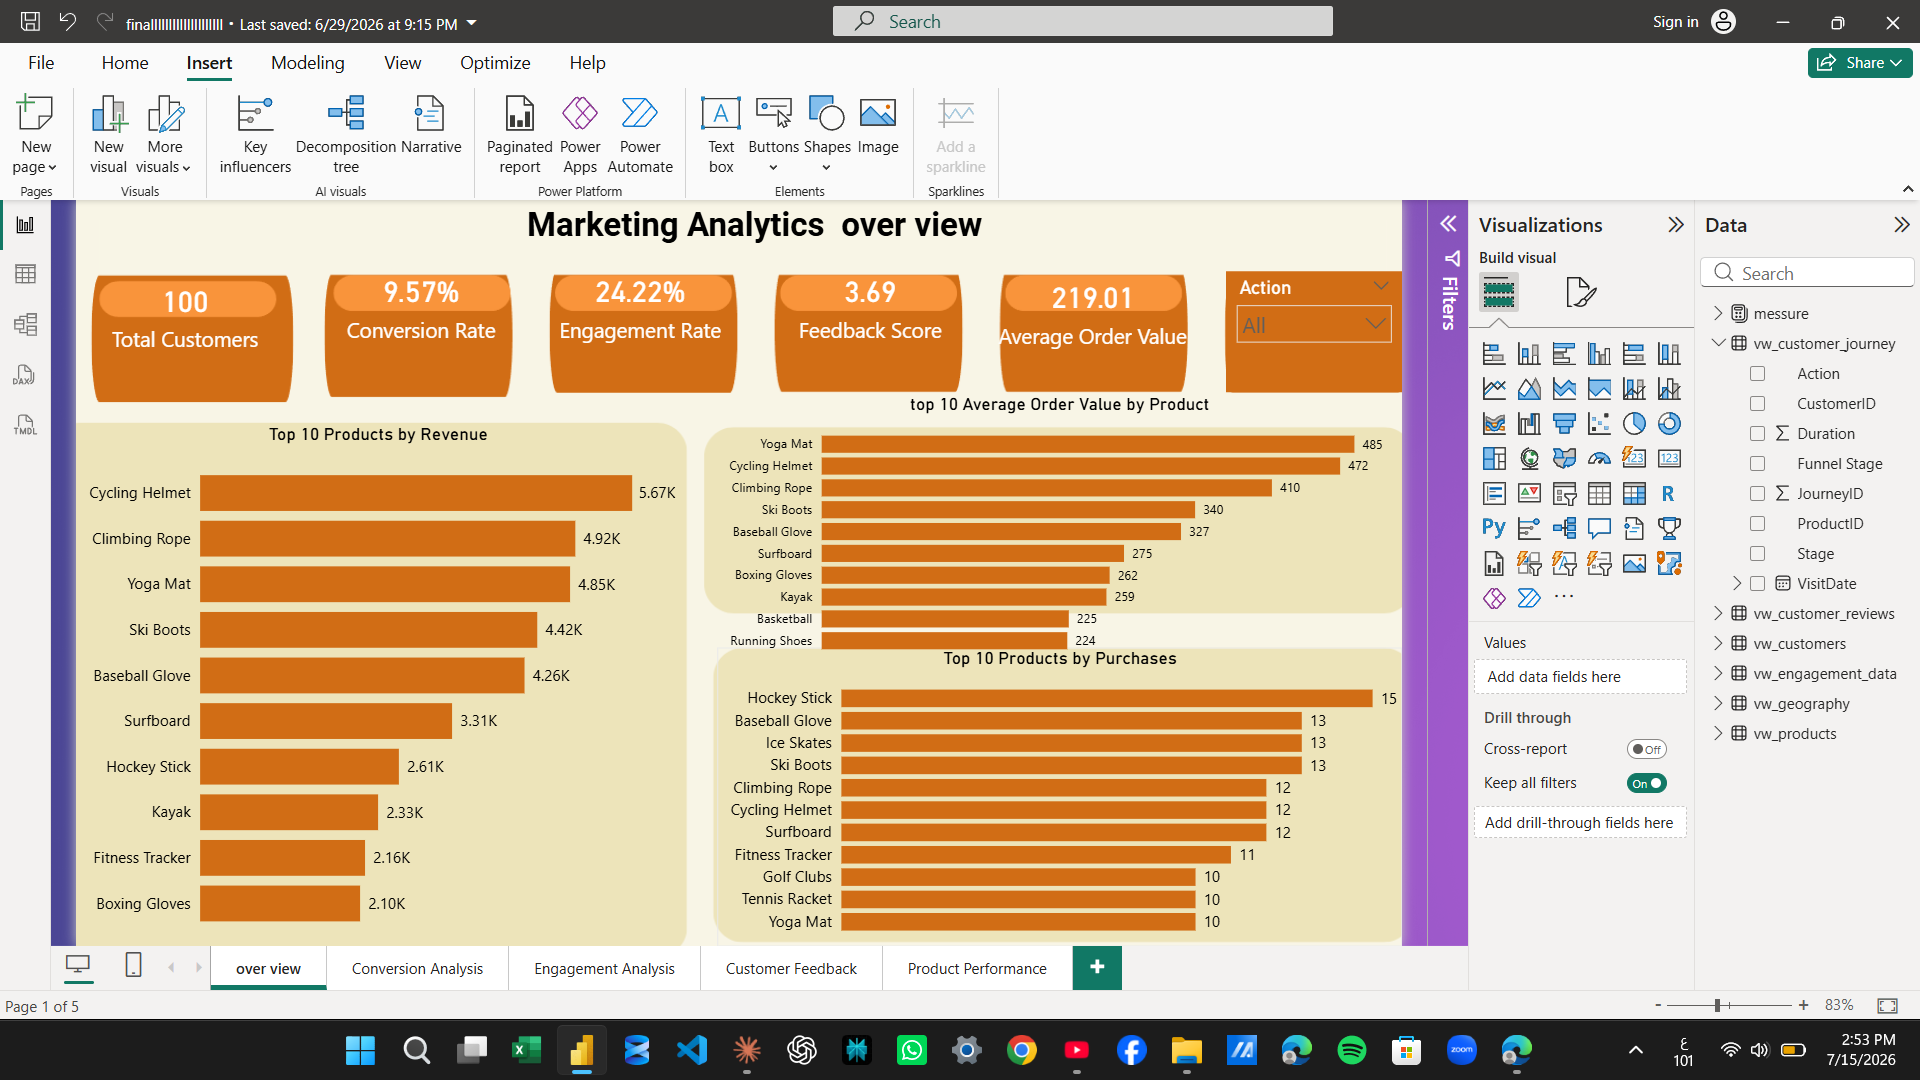

What the dashboard file says about the page in this screenshot:
{"tool":"powerbi","page":{"name":"over view","canvas":[1280,720],"ordinal":0},"visuals":[{"type":"card","fields":{"Values":["messure.Averge order Value"]},"box":[875.9,26.5,211.1,160.5],"z":0},{"type":"card","fields":{"Values":["messure.Feedback Score"]},"box":[677.5,15,177.5,172.5],"z":1000},{"type":"card","fields":{"Values":["messure.Conversion Rate"]},"box":[239.4,19.7,188.7,163.4],"z":2000},{"type":"card","fields":{"Values":["messure.Engagement Rate"]},"box":[450,14.5,189.4,172.5],"z":3000},{"type":"barChart","title":"Top 10 Products by Purchases","fields":{"Category":["vw_products.ProductName"],"Y":["messure.Total Purchases"]},"box":[618.3,432.4,662,287.3],"z":5000},{"type":"barChart","title":"top 10 Average Order Value by Product","fields":{"Category":["vw_products.ProductName"],"Y":["messure.AOV"]},"box":[618.9,187,661.1,260.6],"z":6000},{"type":"card","fields":{"Values":["messure.Total Customers"]},"box":[16.9,33.8,177.3,152],"z":7000},{"type":"barChart","title":"Top 10 Products by Revenue","fields":{"Category":["vw_products.ProductName"],"Y":["messure.Total Revenue"]},"box":[0,216.2,583.8,503.8],"z":8000},{"type":"textbox","box":[0,0,1280.3,68.6],"z":9000},{"type":"slicer","fields":{"Values":["vw_customer_journey.Action"]},"box":[1109.9,68.8,170.1,117],"z":9001}]}

Visuals, with their boxes on the page's 1280x720 design canvas (x1, y1, x2, y2). These are canvas units, not pixel positions in the 1920x1080 screenshot, which may show the page scaled, cropped or inside an application window:
card - messure.Averge order Value: bbox(876, 26, 1087, 187)
card - messure.Feedback Score: bbox(678, 15, 855, 188)
card - messure.Conversion Rate: bbox(239, 20, 428, 183)
card - messure.Engagement Rate: bbox(450, 14, 639, 187)
"Top 10 Products by Purchases" barChart: bbox(618, 432, 1280, 720)
"top 10 Average Order Value by Product" barChart: bbox(619, 187, 1280, 448)
card - messure.Total Customers: bbox(17, 34, 194, 186)
"Top 10 Products by Revenue" barChart: bbox(0, 216, 584, 720)
textbox: bbox(0, 0, 1280, 69)
slicer - vw_customer_journey.Action: bbox(1110, 69, 1280, 186)
